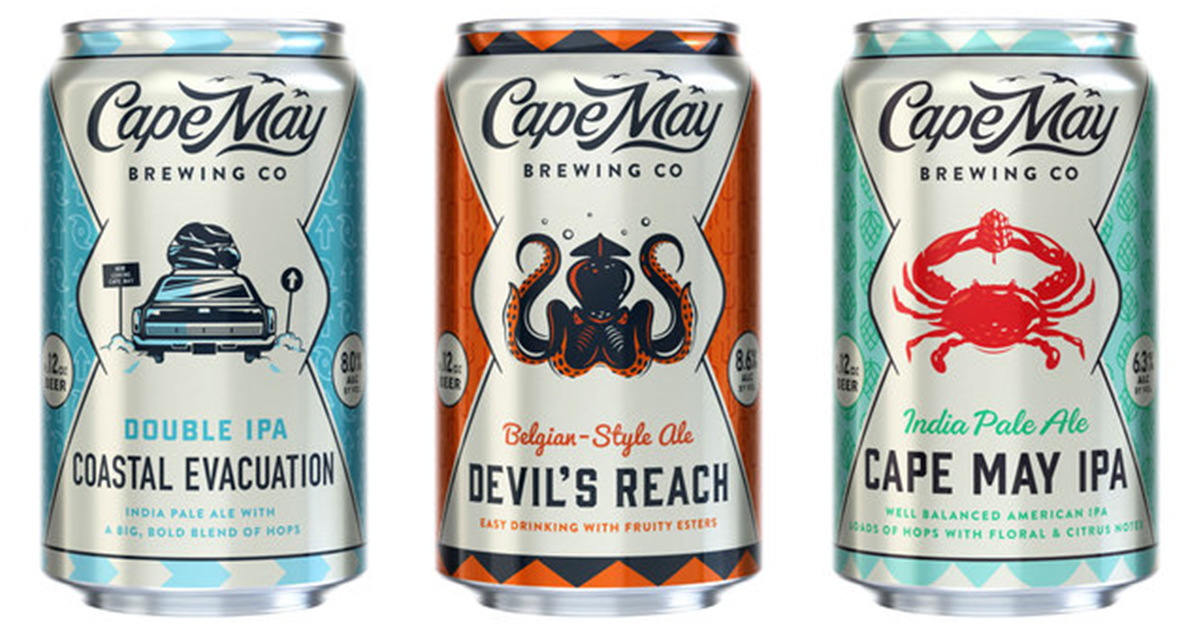beer can: (415, 14, 779, 609), (24, 14, 374, 625), (832, 15, 1160, 615)
